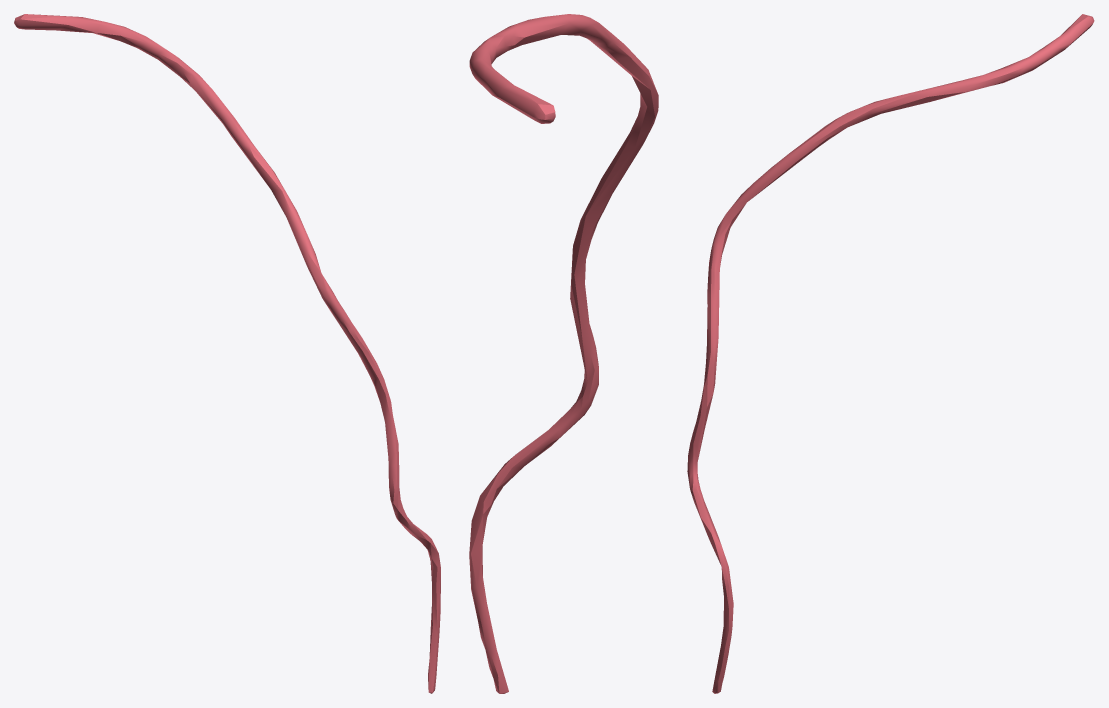
The model's file is fma14747_fj3518.glb.
The picture shows the model from 3 angles, left to right: view 1: azimuth 30°, elevation 25°; view 2: azimuth 150°, elevation 25°; view 3: azimuth 270°, elevation 25°; orthographic projection. The views are drawn at different scales.
Visible parts, largest first — view 1: FMA14747_FJ3518; view 2: FMA14747_FJ3518; view 3: FMA14747_FJ3518.
Boxes of the visible parts, x1,y1,x2,y2 form: FMA14747_FJ3518: [14, 14, 440, 693]; FMA14747_FJ3518: [469, 14, 658, 693]; FMA14747_FJ3518: [687, 14, 1094, 693].
Size of the model in its own units: 0.0304 by 0.0711 by 0.0456.
